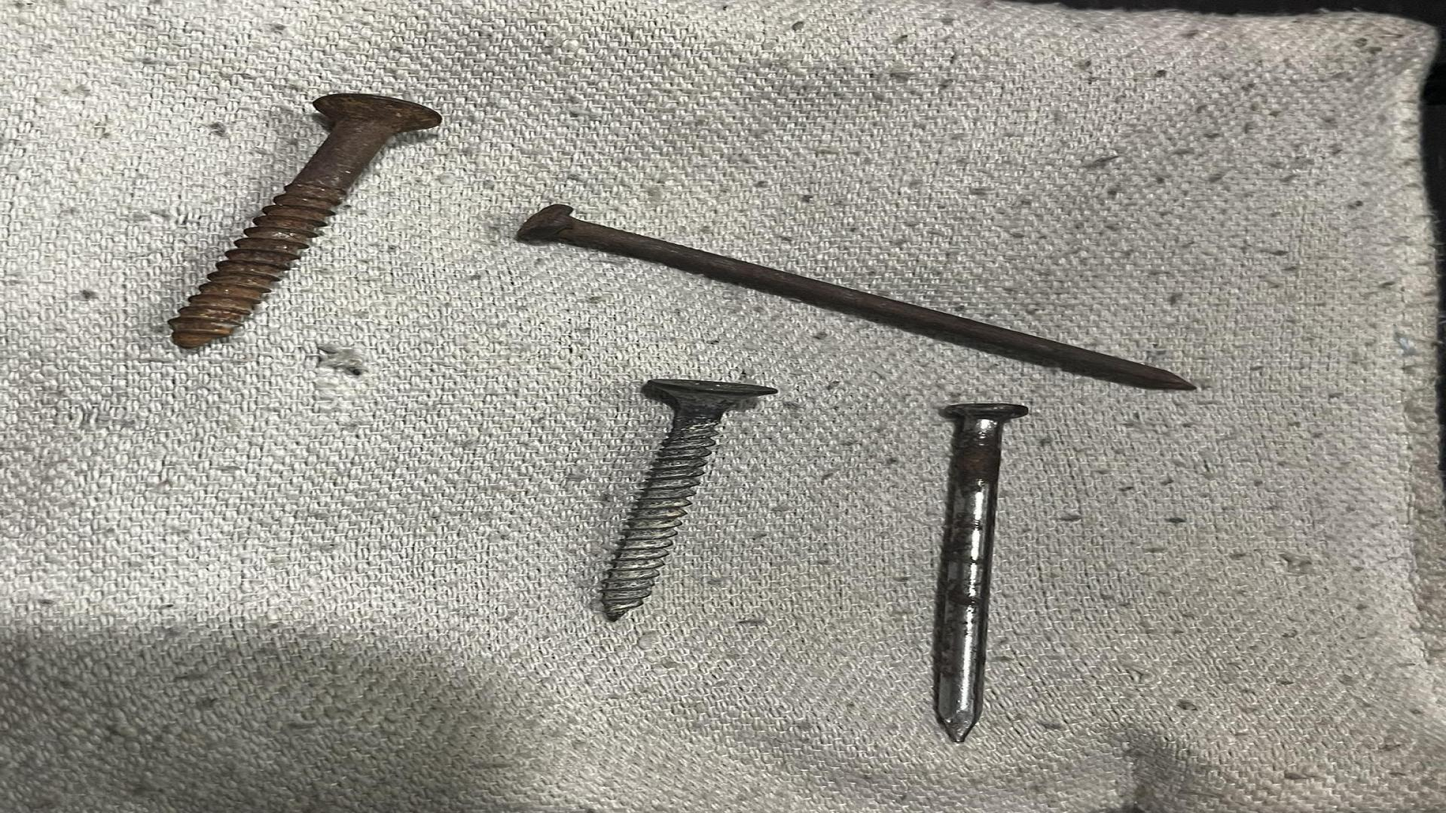nail: (493, 188, 1261, 388), (891, 393, 1064, 753)
screw: (129, 70, 480, 364), (537, 352, 784, 643)
